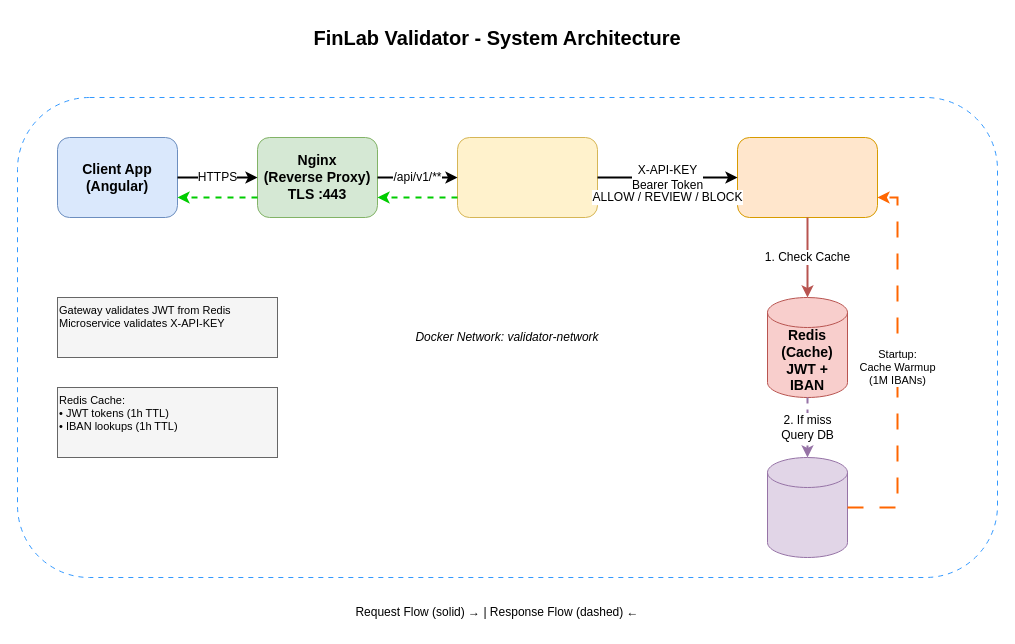
Some shapes in this 1015 by 644 pixel diagram are drawn without their labels. The shapes that lost their labels are listed below. From the top down, each one's box as (x1, y1, x2, y2) in pixels, then its label:
(456, 136, 598, 218): API Gateway (Spring Cloud) JWT Validation
(736, 136, 878, 218): Validator Service (Accounts) IBAN Risk Check
(766, 456, 848, 558): PostgreSQL (Database) 1M IBANs
